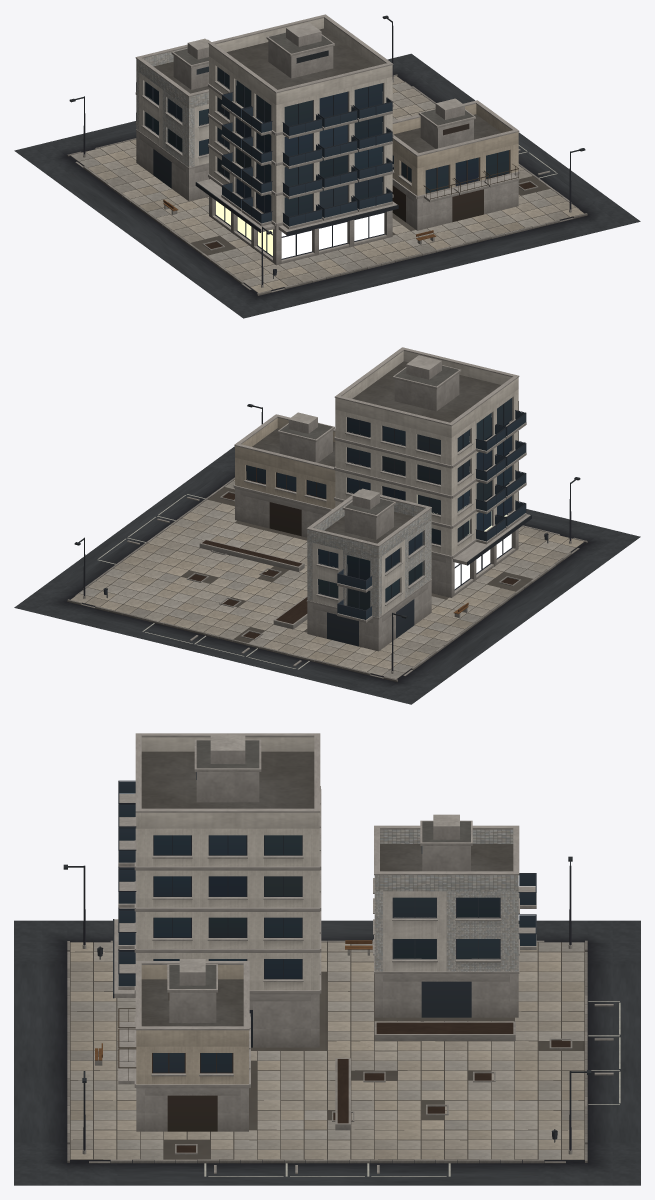
The model's file is modulo_G_lod0.glb.
3 views of the same model, one above another, from view 1: azimuth 30°, elevation 25°; view 2: azimuth 150°, elevation 25°; view 3: azimuth 270°, elevation 25° (orthographic). The views are drawn at different scales.
Visible parts, largest first — view 1: modulo_G_lod0_tex, modulo_G_lod0_solid; view 2: modulo_G_lod0_tex, modulo_G_lod0_solid; view 3: modulo_G_lod0_tex, modulo_G_lod0_solid.
Part boxes in pixels (x1=…): modulo_G_lod0_tex: x1=14, y1=14, x2=640, y2=318; modulo_G_lod0_solid: x1=69, y1=15, x2=585, y2=284; modulo_G_lod0_tex: x1=14, y1=347, x2=640, y2=704; modulo_G_lod0_solid: x1=74, y1=397, x2=580, y2=670; modulo_G_lod0_tex: x1=14, y1=733, x2=640, y2=1185; modulo_G_lod0_solid: x1=63, y1=772, x2=591, y2=1150.
Size of the model in its own units: 40 by 19.01 by 40.
Materials: 11 (7 with a texture image).
